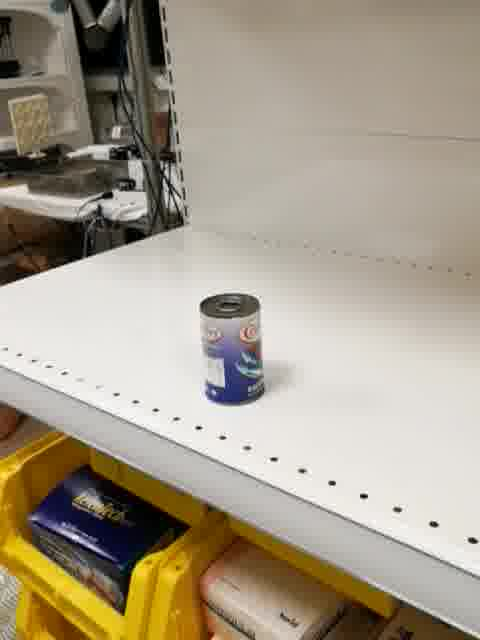sardine: (198, 290, 266, 407)
